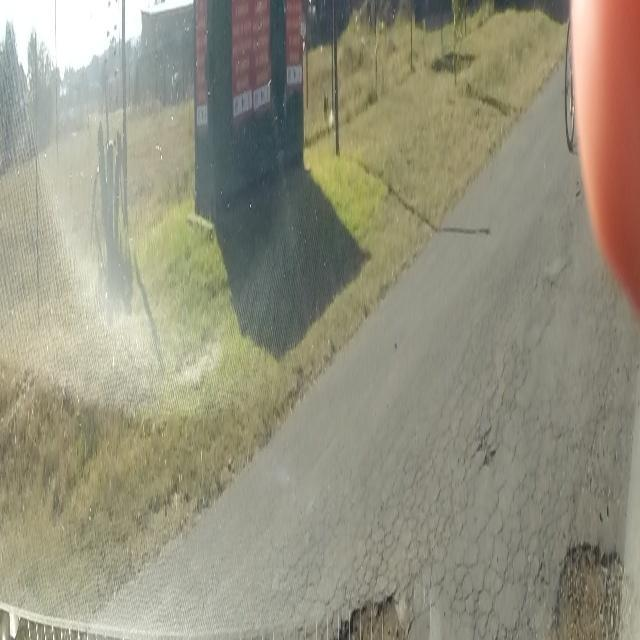pothole: (552, 533, 626, 640), (326, 582, 433, 640)
